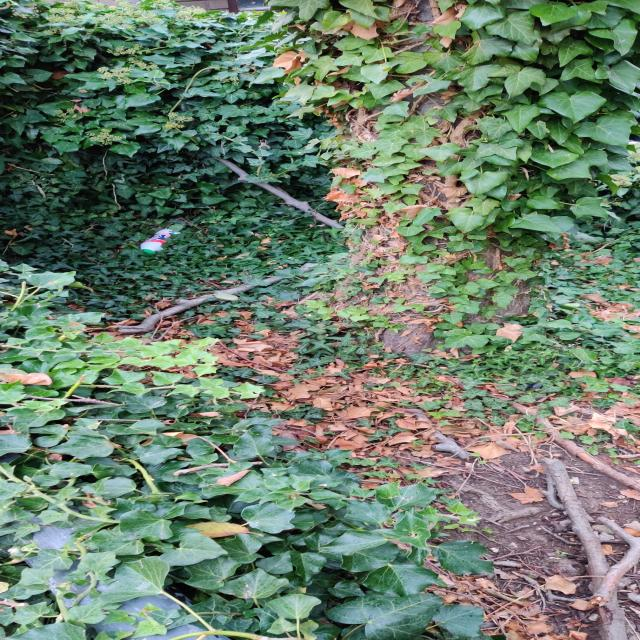litter: (134, 223, 184, 255)
